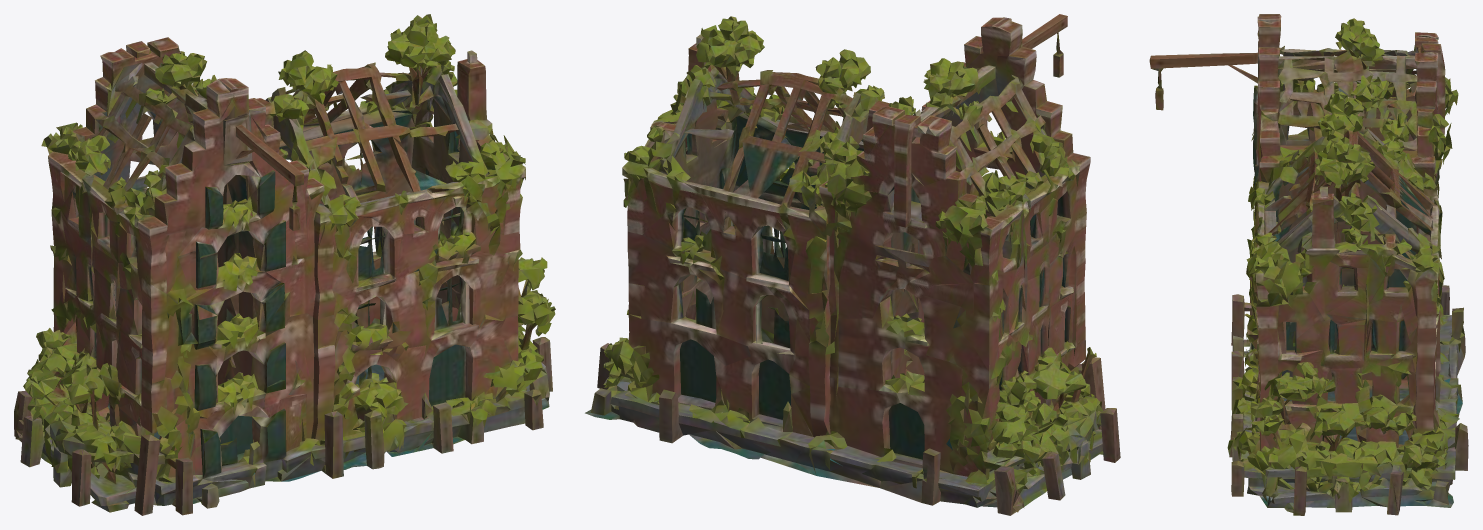
File: cityWarehouse.glb
3 renders of one model, left to right at view 1: azimuth 30°, elevation 25°; view 2: azimuth 150°, elevation 25°; view 3: azimuth 270°, elevation 25°, orthographic. The views are drawn at different scales.
Visible parts, largest first — view 1: output_unwrapped; view 2: output_unwrapped; view 3: output_unwrapped.
Boxes of the visible parts, left/top/right/bottom form: output_unwrapped: left=14, top=14, right=555, bottom=515; output_unwrapped: left=585, top=14, right=1120, bottom=515; output_unwrapped: left=1149, top=14, right=1468, bottom=515.
Size of the model in its own units: 1.9 by 1.53 by 1.25.
Materials: 1 (1 with a texture image).
